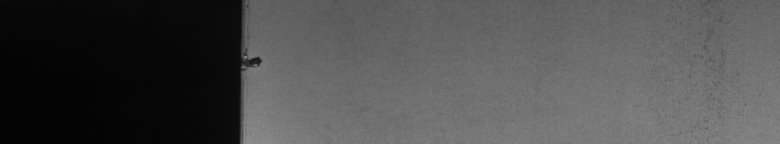hb: (252, 49, 268, 72)
